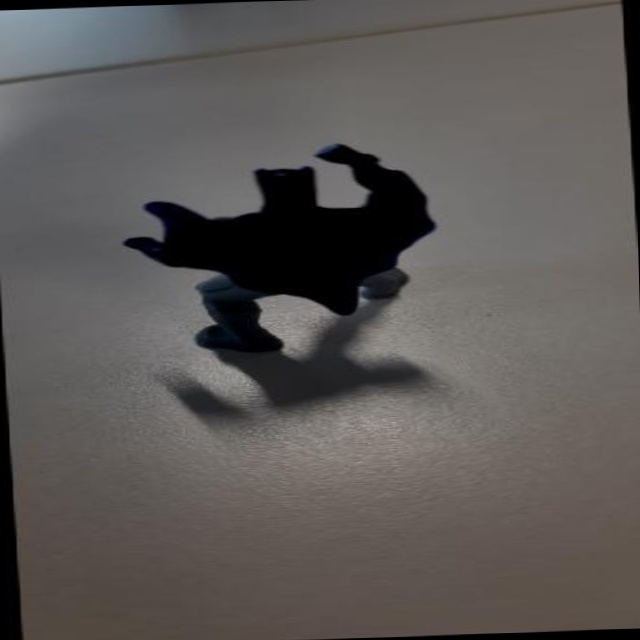Batman: (101, 139, 462, 358)
